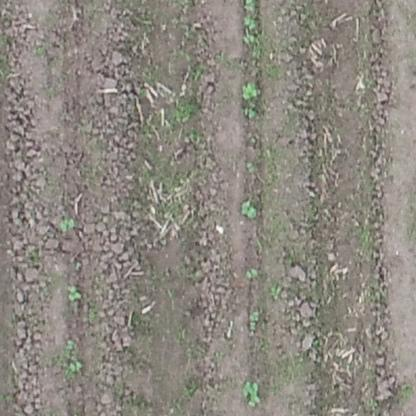vc: (242, 378, 265, 406), (239, 81, 264, 99), (239, 197, 259, 219), (64, 355, 85, 375), (63, 284, 83, 303), (57, 217, 76, 234), (244, 265, 260, 282), (243, 107, 262, 120), (249, 309, 262, 322), (63, 337, 77, 349), (243, 32, 256, 44)
